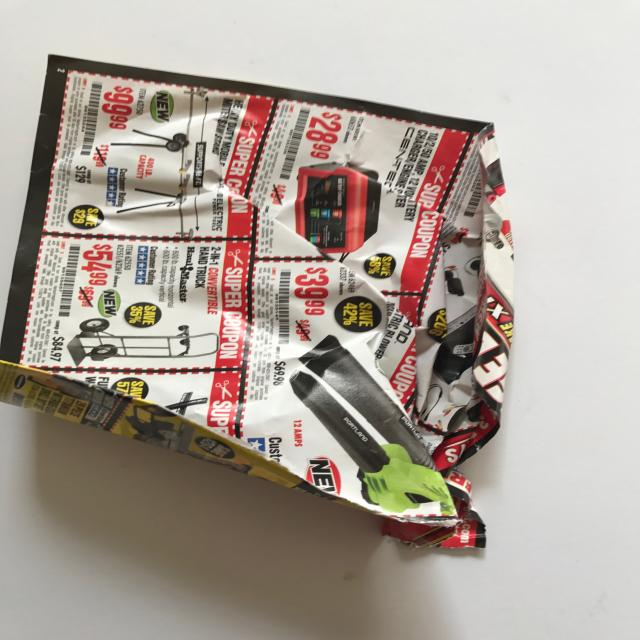paper: (1, 56, 516, 550)
